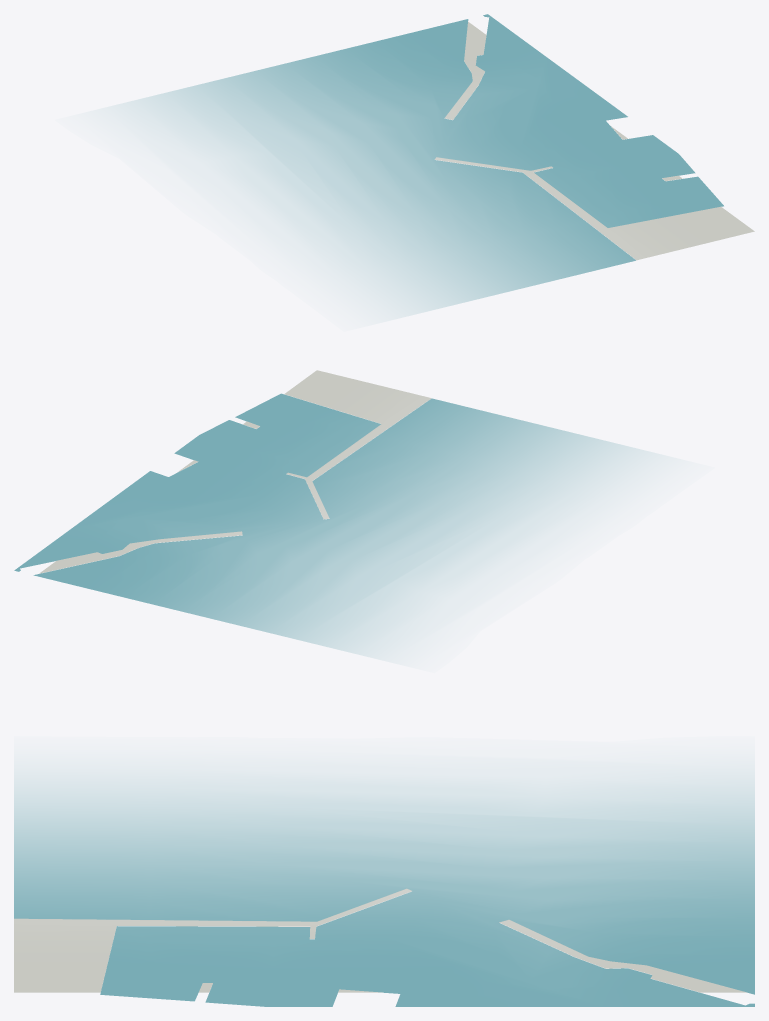
3 renders of one model, top to bottom at view 1: azimuth 30°, elevation 25°; view 2: azimuth 150°, elevation 25°; view 3: azimuth 270°, elevation 25°, orthographic. The views are drawn at different scales.
Parts seen in each view (by area): view 1: city; view 2: city; view 3: city.
Part boxes in pixels (x1=…): city: x1=115, y1=14, x2=754, y2=316; city: x1=14, y1=370, x2=656, y2=658; city: x1=14, y1=773, x2=754, y2=1006.
Size of the model in its own units: 473 by 0.18 by 500.
